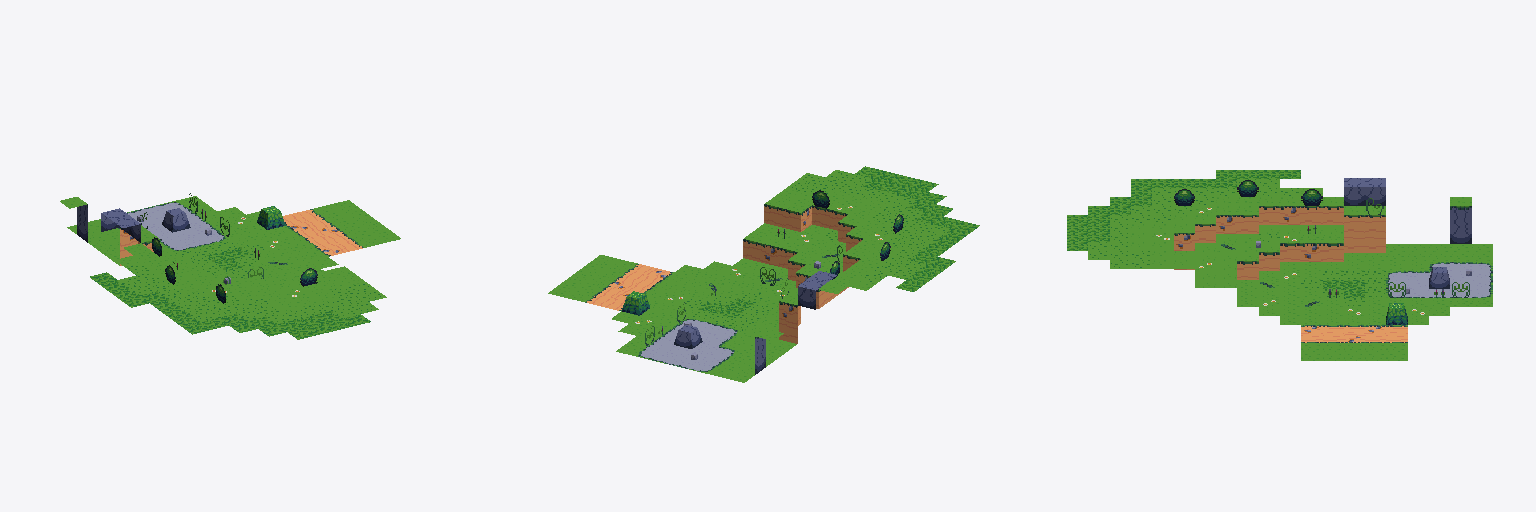
3 views of the same model, side by side, from view 1: azimuth 30°, elevation 25°; view 2: azimuth 150°, elevation 25°; view 3: azimuth 270°, elevation 25° (orthographic).
Visible parts, largest first — view 1: Default; view 2: Default; view 3: Default.
Part boxes in pixels (left/top/right/bottom): Default: left=60, top=193, right=400, bottom=339; Default: left=548, top=166, right=979, bottom=382; Default: left=1067, top=170, right=1492, bottom=360.
Size of the model in its own units: 42.5 by 7.5 by 50.
Materials: 1 (1 with a texture image).